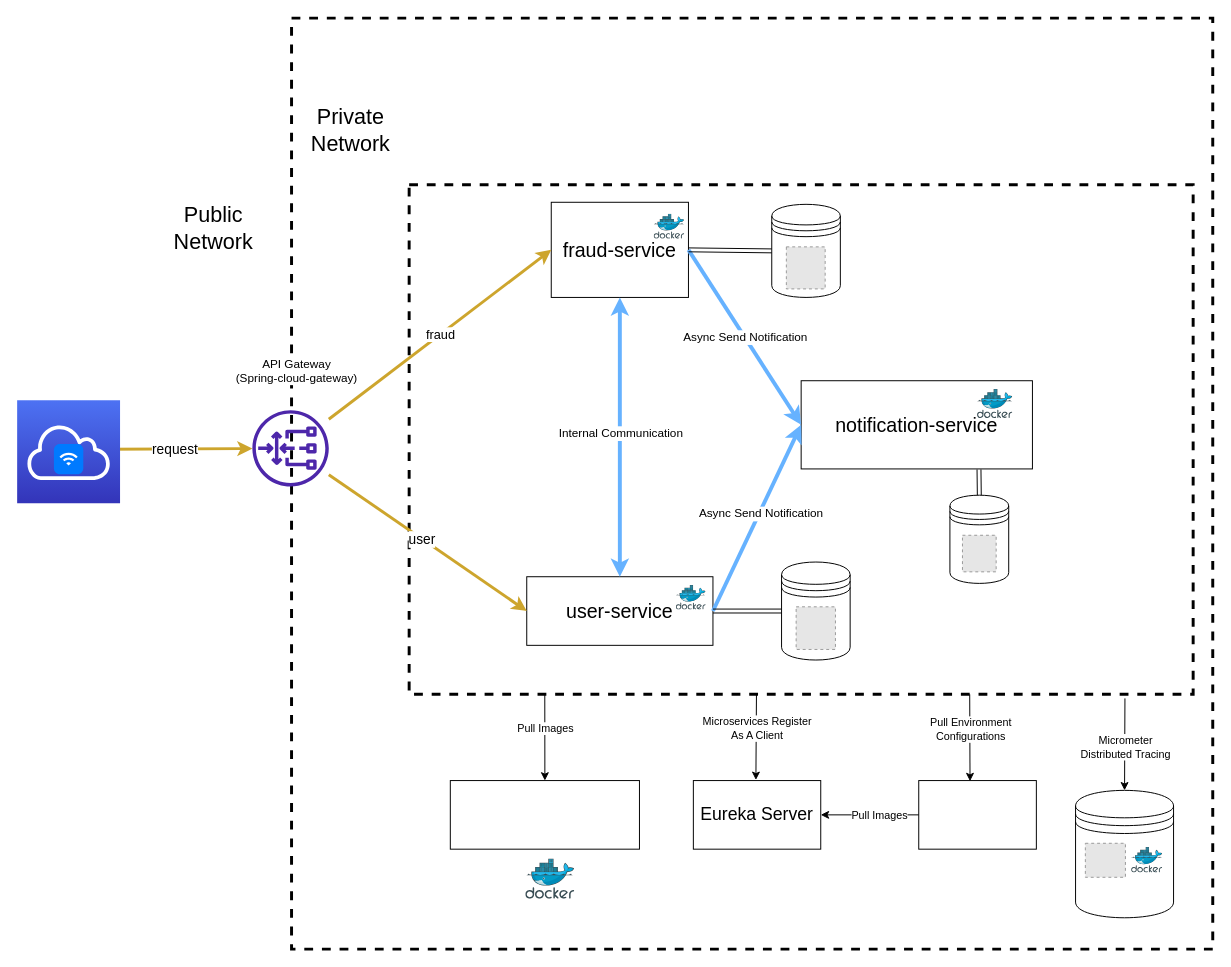
This 1231x967 diagram has some shape labels left out. Grey dashed boxes stand in for pictures. The centre of each missing label's shape, as x and y in pixels:
"Config Server" goes at [977,814].
"Private Docker Registry" goes at [544,814].
